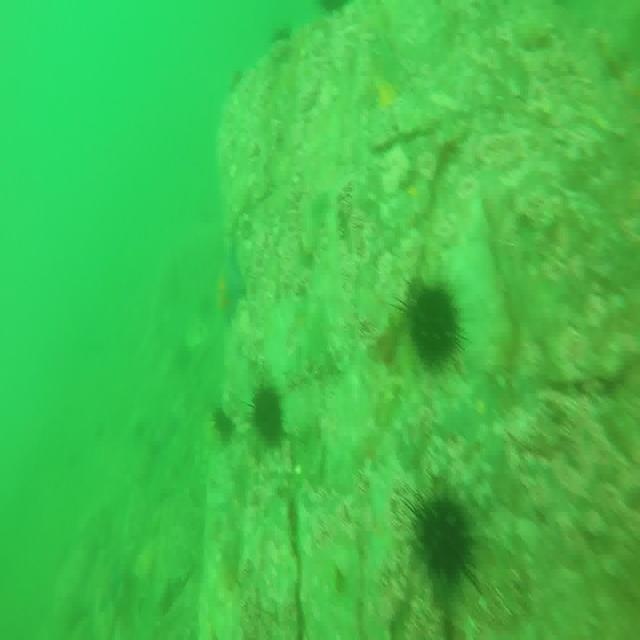echinus: (414, 490, 476, 586), (407, 280, 460, 363), (250, 382, 286, 449), (208, 406, 237, 447)
starfish: (216, 244, 247, 328)
